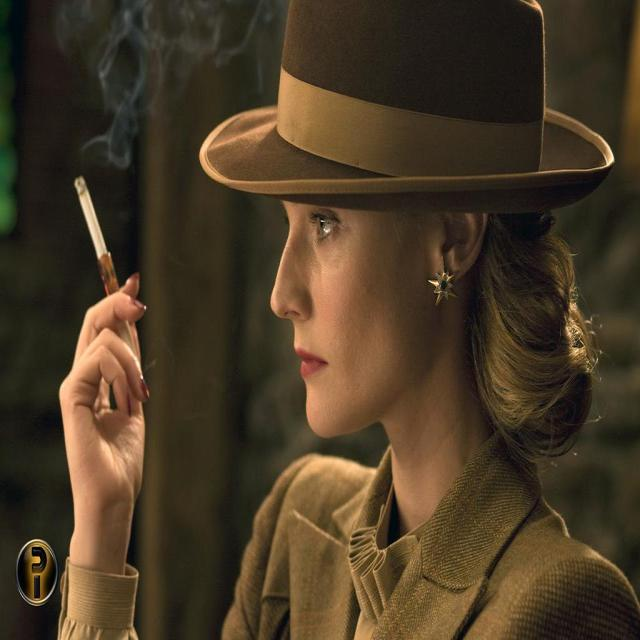smoking: (58, 138, 540, 507)
